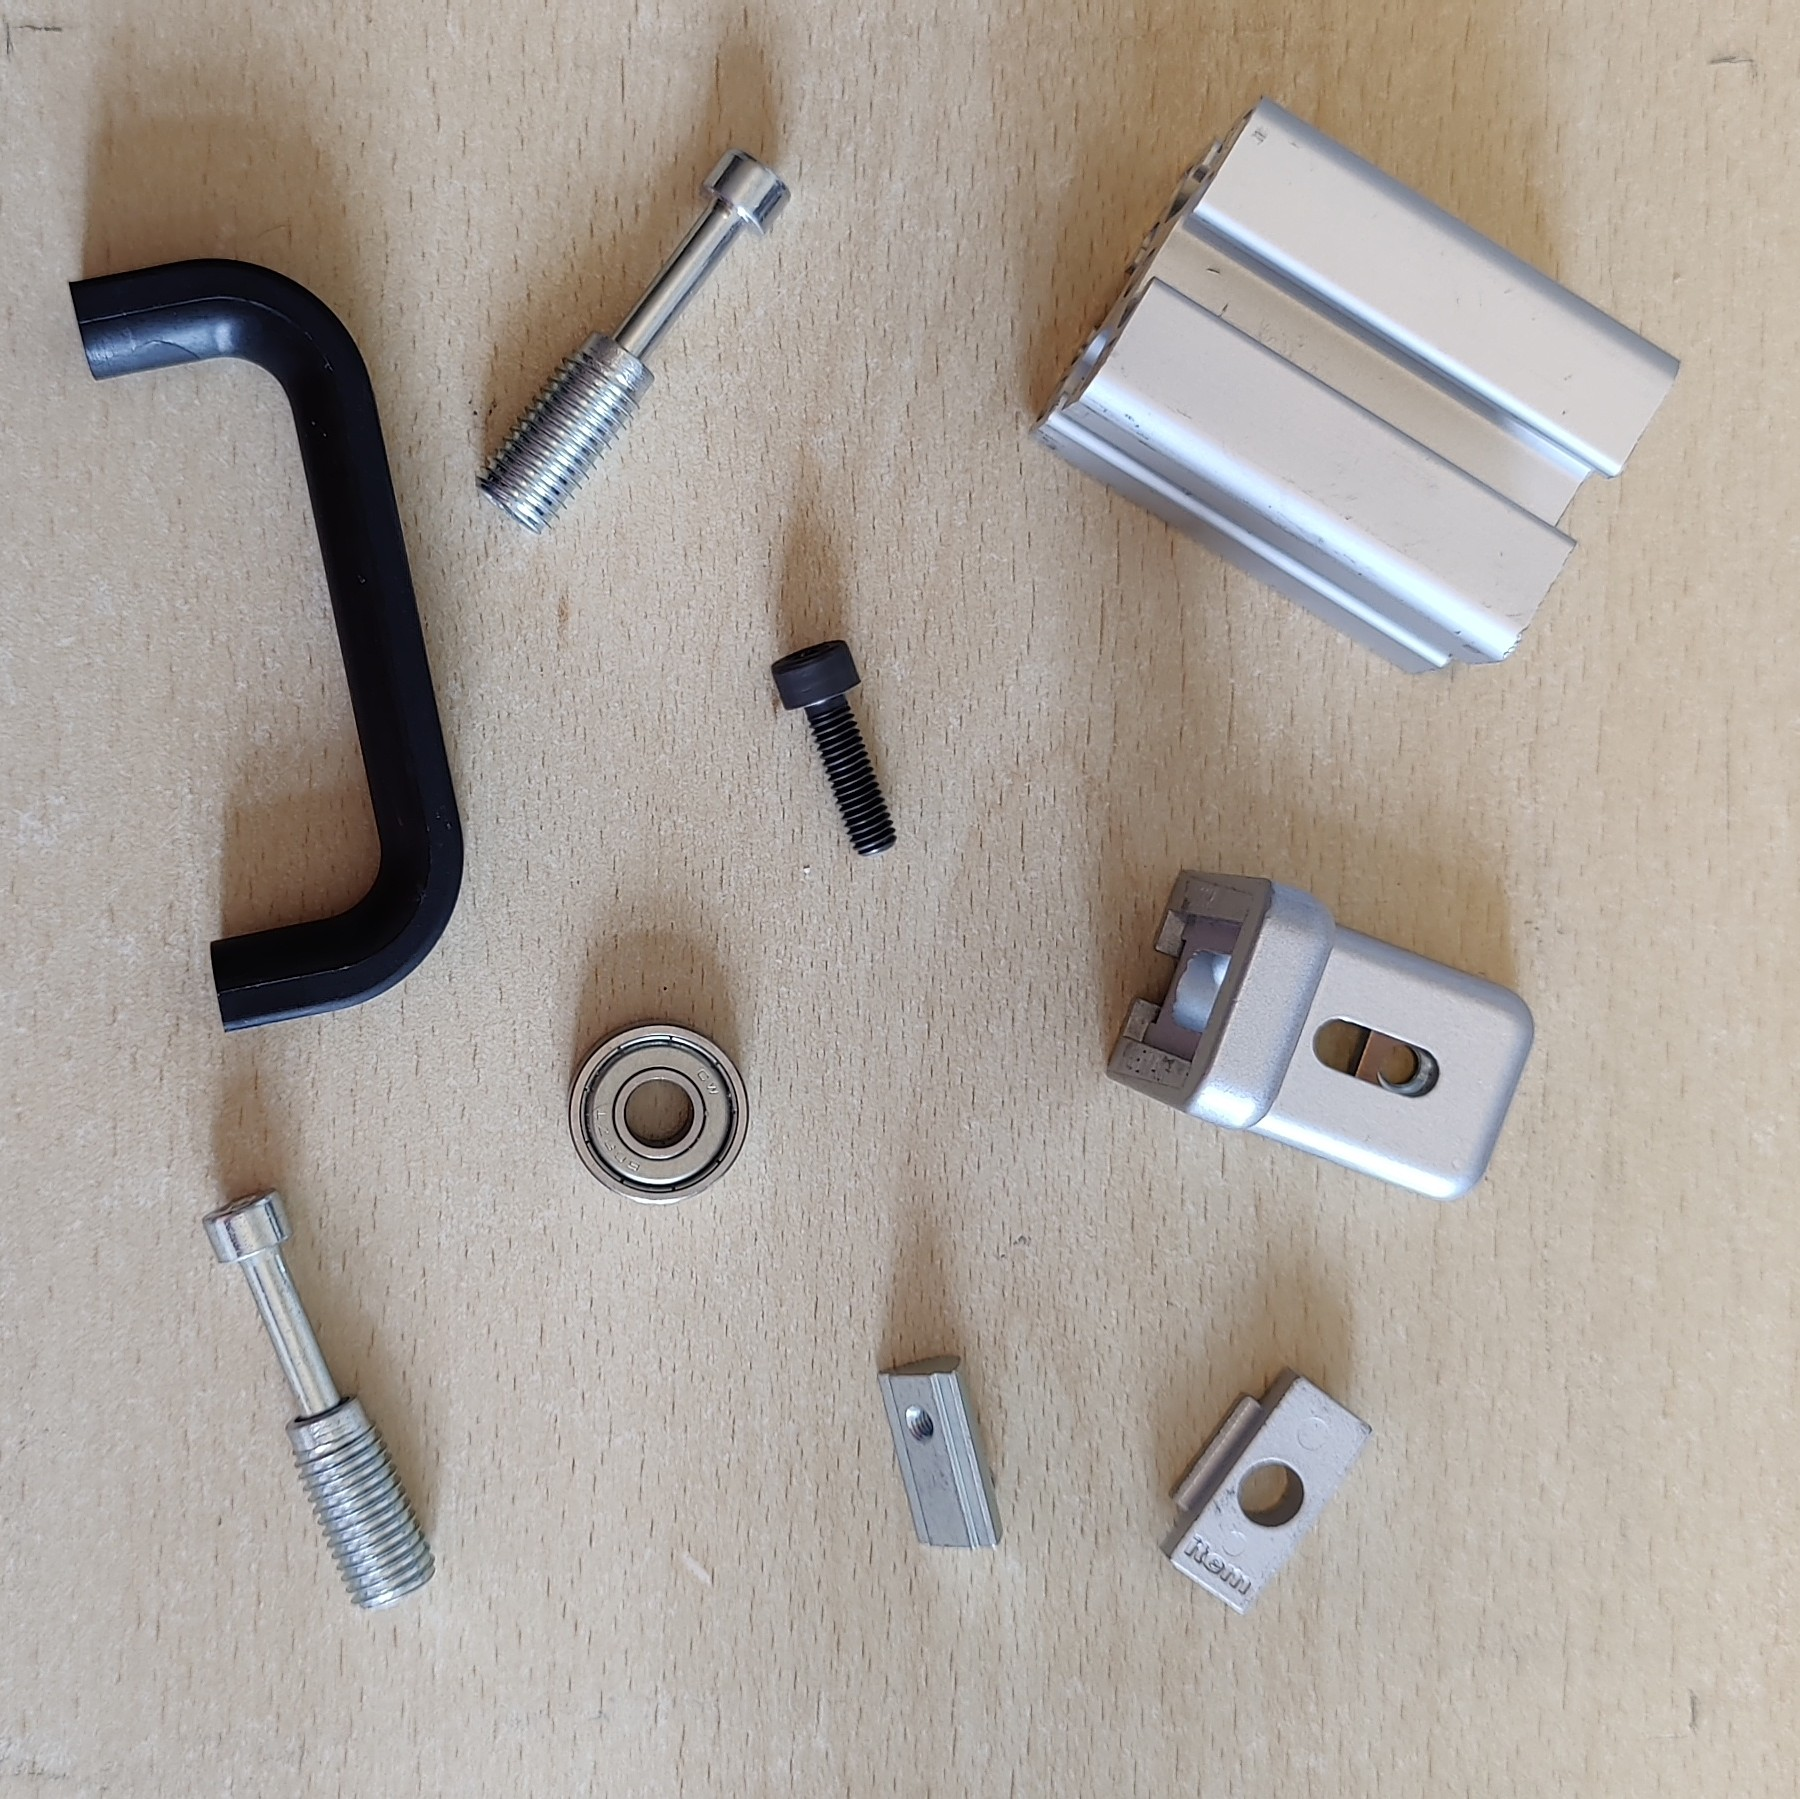Aluminium Extension: (1031, 94, 1686, 675)
Ball Bearing: (565, 1020, 749, 1206)
Multiwinkel: (1107, 865, 1537, 1204)
Pull Handle: (64, 254, 468, 1035)
Shoulder Socket Head Cap Screw: (474, 147, 792, 539), (201, 1185, 440, 1614)
Socket Head Cap Screw: (767, 634, 899, 858)
T Nut Square: (1154, 1362, 1375, 1619)
T Spring Nut: (874, 1353, 1008, 1552)
